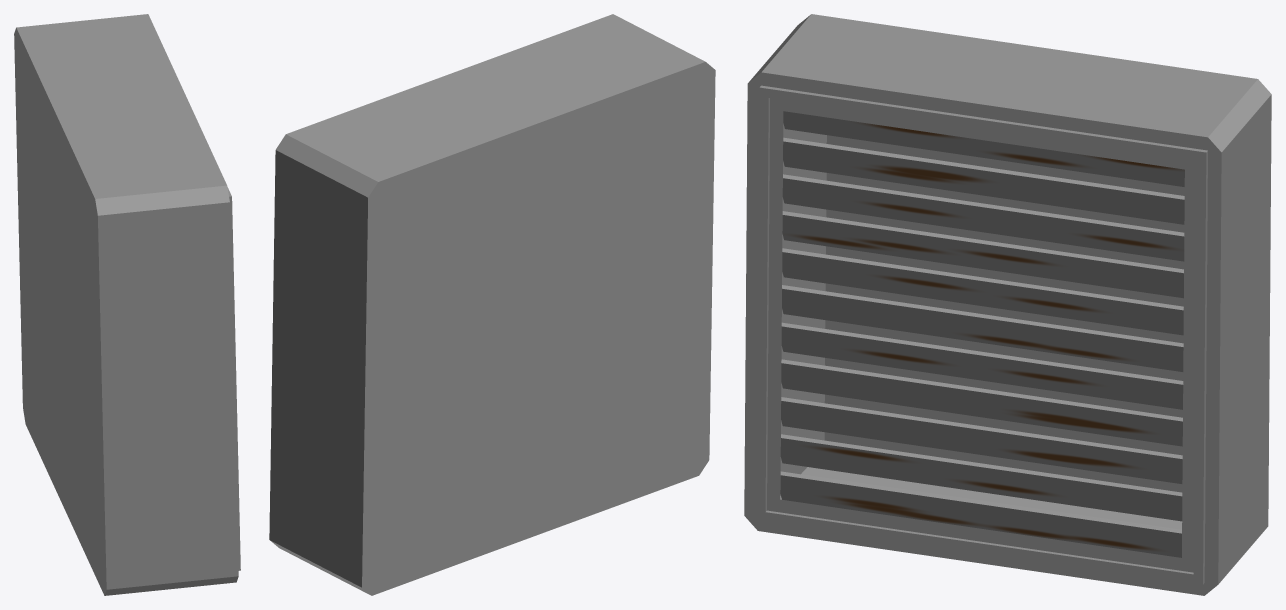
File: Grill.fbx
3 renders of one model, left to right at view 1: azimuth 30°, elevation 25°; view 2: azimuth 150°, elevation 25°; view 3: azimuth 270°, elevation 25°, orthographic. The views are drawn at different scales.
Parts seen in each view (by area): view 1: Grill; view 2: Grill; view 3: Grill.
Boxes of the visible parts, <box> form: Grill: <box>14,14,240,595</box>; Grill: <box>269,14,715,595</box>; Grill: <box>744,14,1271,595</box>.
Bounding box in the file's own units: 291 × 461 × 482.
